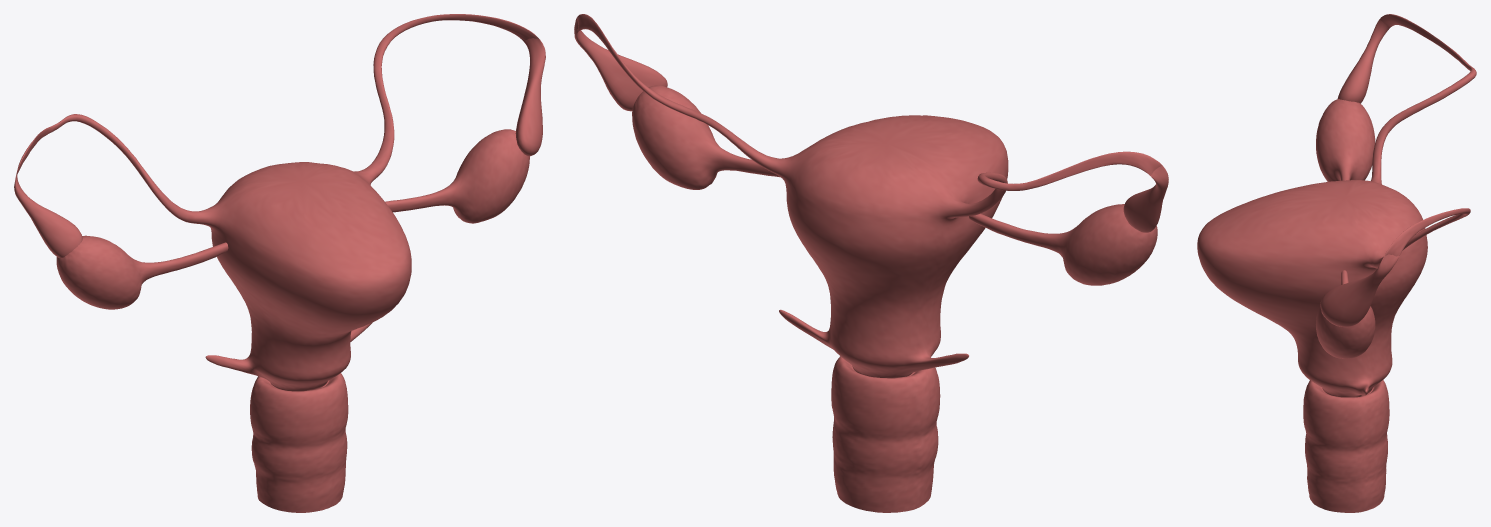
File: uterus.glb
The picture shows the model from 3 angles, left to right: view 1: azimuth 30°, elevation 25°; view 2: azimuth 150°, elevation 25°; view 3: azimuth 270°, elevation 25°; orthographic projection. The views are drawn at different scales.
Parts seen in each view (by area): view 1: Sphere_1; view 2: Sphere_1; view 3: Sphere_1.
Boxes of the visible parts, box(x1,y1,x2,y2) form: Sphere_1: box(14, 14, 545, 512); Sphere_1: box(574, 14, 1168, 512); Sphere_1: box(1197, 14, 1476, 512).
Size of the model in its own units: 2.4 by 1.72 by 1.16.
